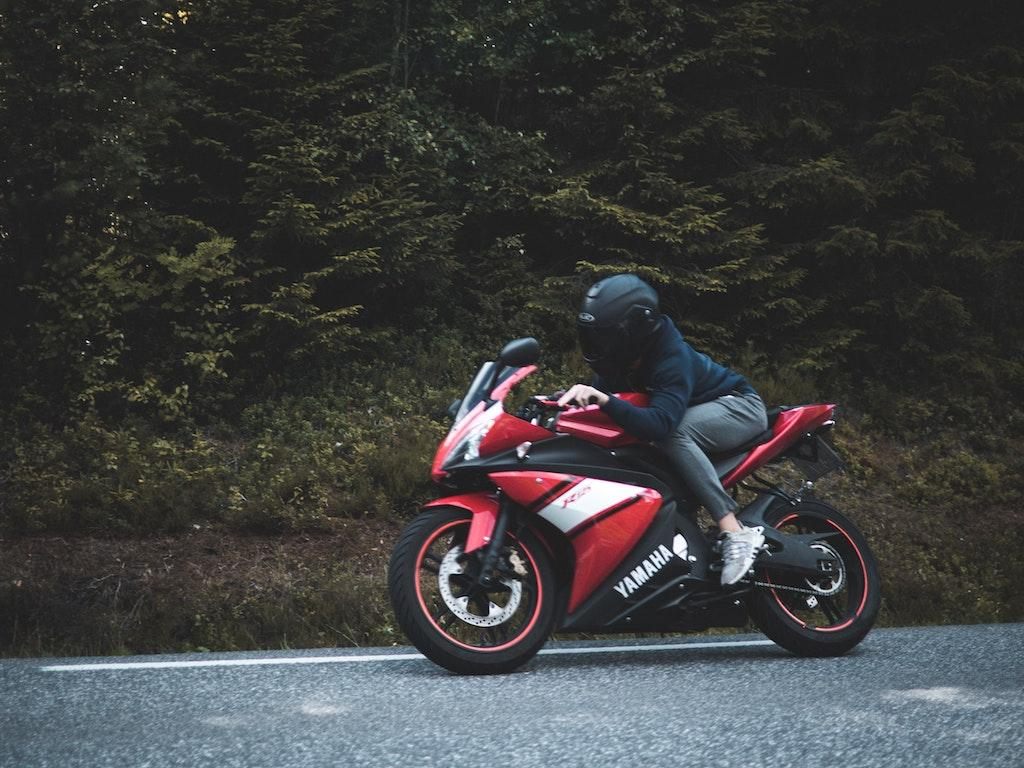helmet: (574, 271, 664, 381)
